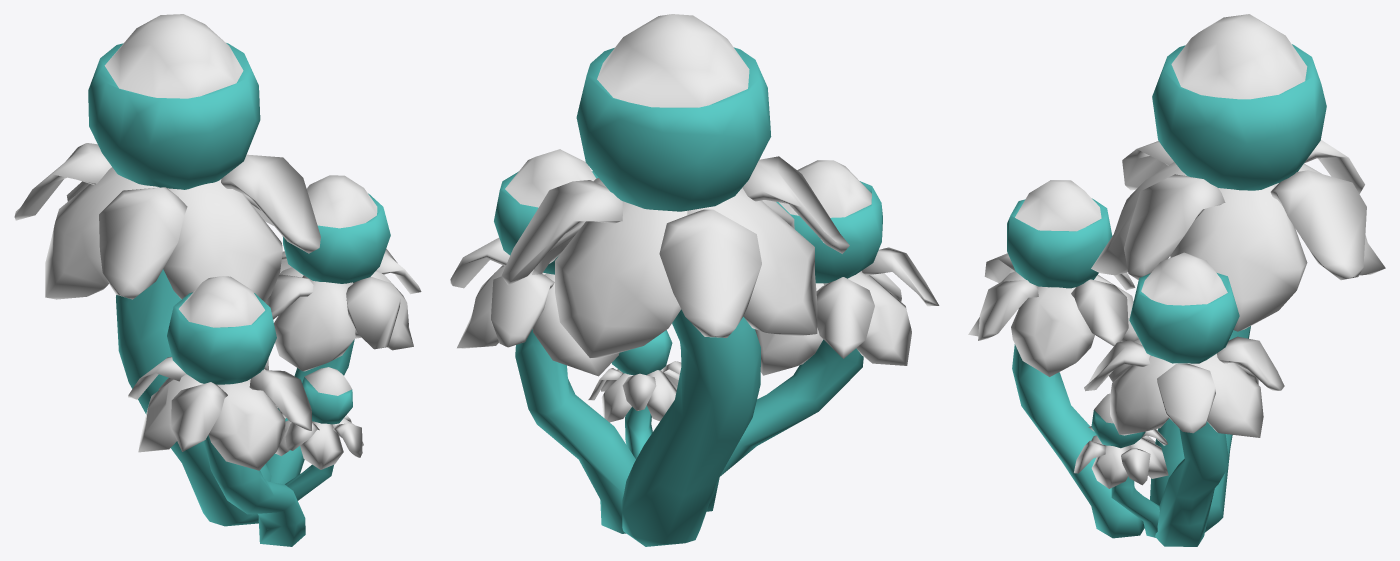
Rendered from mesh_planta1.fbx.
3 renders of one model, left to right at view 1: azimuth 30°, elevation 25°; view 2: azimuth 150°, elevation 25°; view 3: azimuth 270°, elevation 25°, orthographic. The views are drawn at different scales.
Visible parts, largest first — view 1: Planta Brilha HP 2 LP / 2; view 2: Planta Brilha HP 2 LP / 2; view 3: Planta Brilha HP 2 LP / 2.
Part boxes in pixels (x1,y1,x2,y2): Planta Brilha HP 2 LP / 2: (14,14,421,546); Planta Brilha HP 2 LP / 2: (450,14,939,546); Planta Brilha HP 2 LP / 2: (968,14,1385,546).
Bounding box in the file's own units: 130 × 174 × 135.
